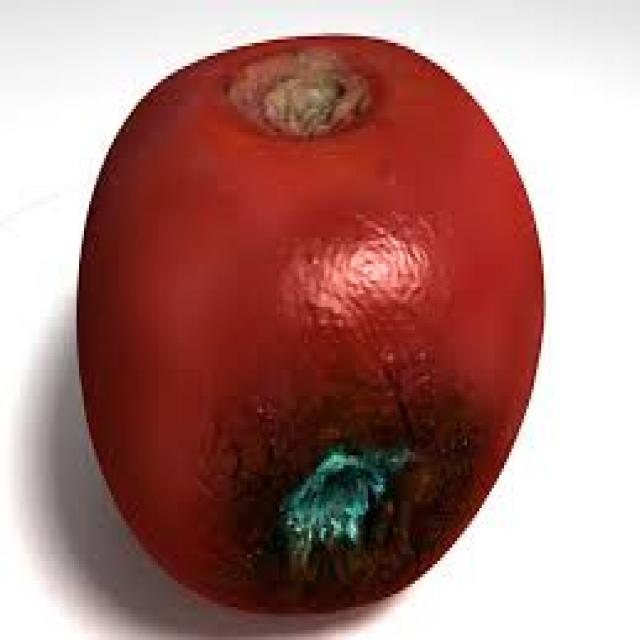organic waste: (69, 30, 544, 617)
